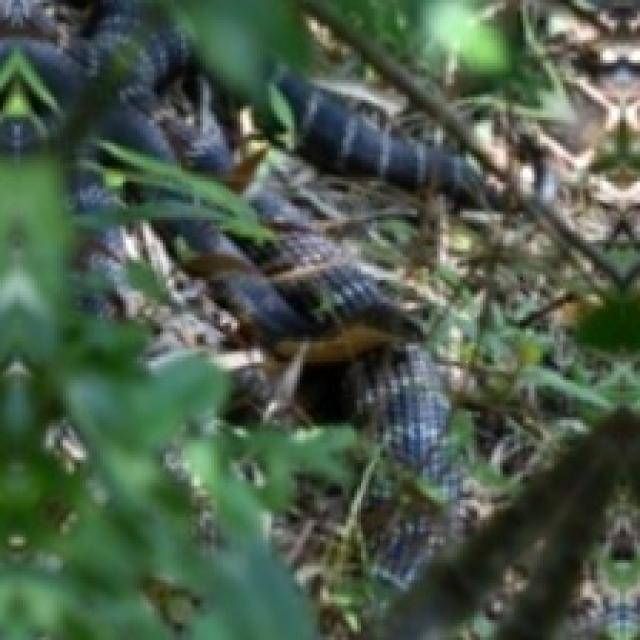king cobra: (0, 0, 417, 637)
